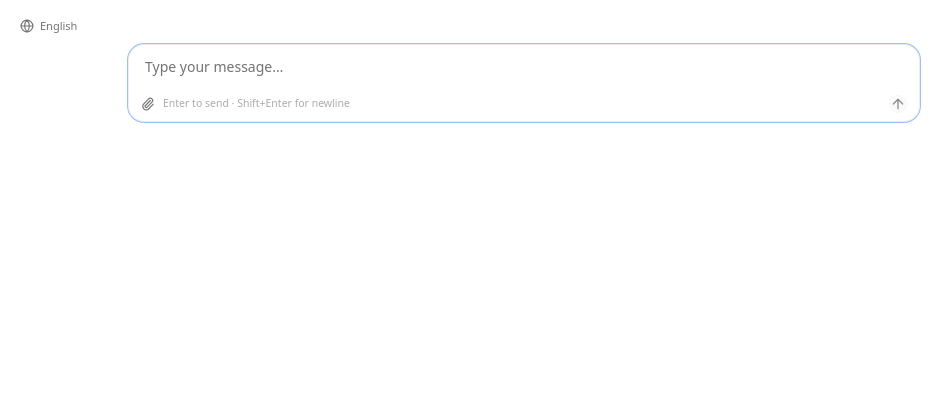
Test: webui i18n › switches UI copy and document locale through the language switcher
Expected: the text box with placeholder "Type your message…" is shown, [129,45,919,95]
Click the button with aria-label "Change language" at (49, 26), box [12,12,85,40]
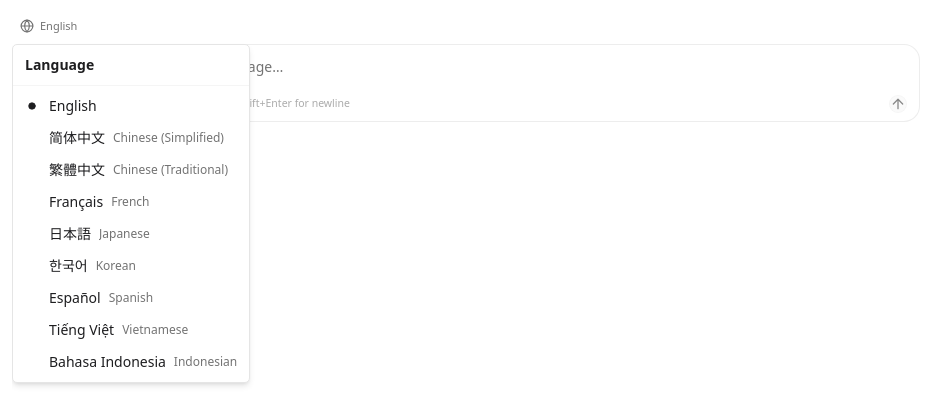
Click the menu item "简体中文 Chinese (Simplified)" at (136, 138), box [49,128,224,147]
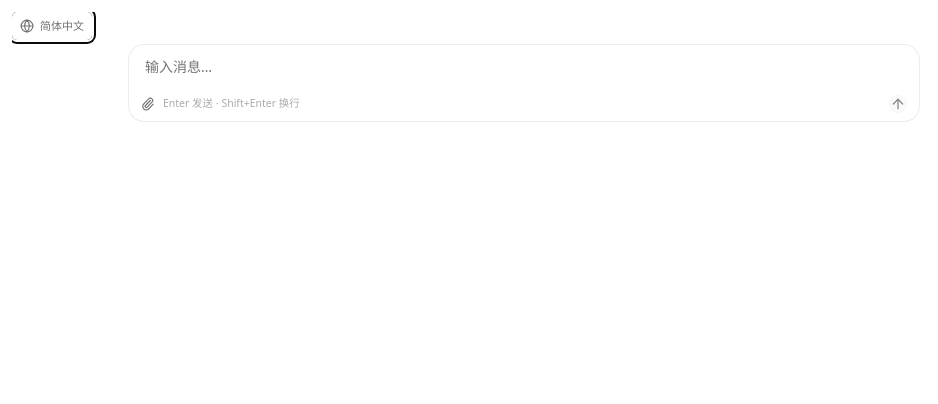
Expected: the text box with placeholder "输入消息…" is shown, [129,45,919,95]
